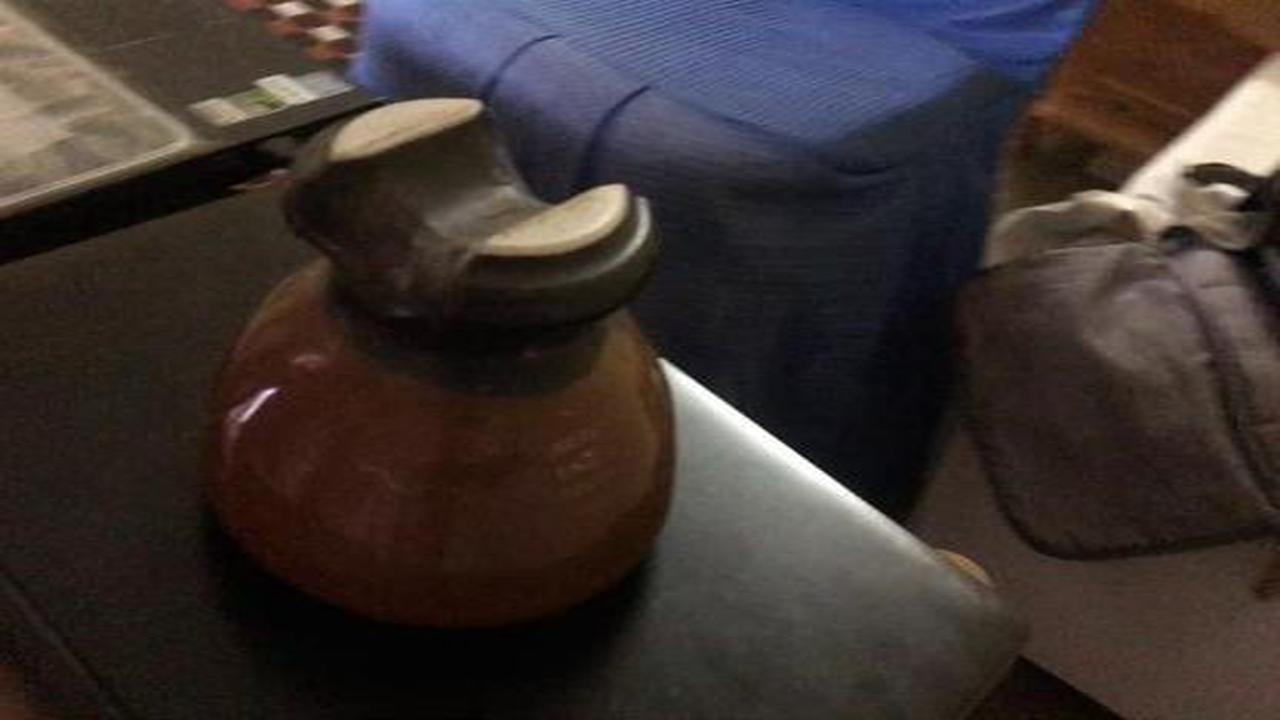insulator_pin: (191, 68, 702, 646)
